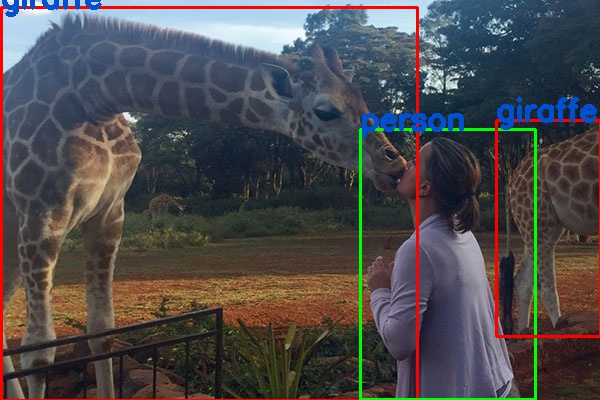giraffe: (0, 7, 416, 400), (495, 119, 599, 336)
person: (359, 129, 534, 399)
